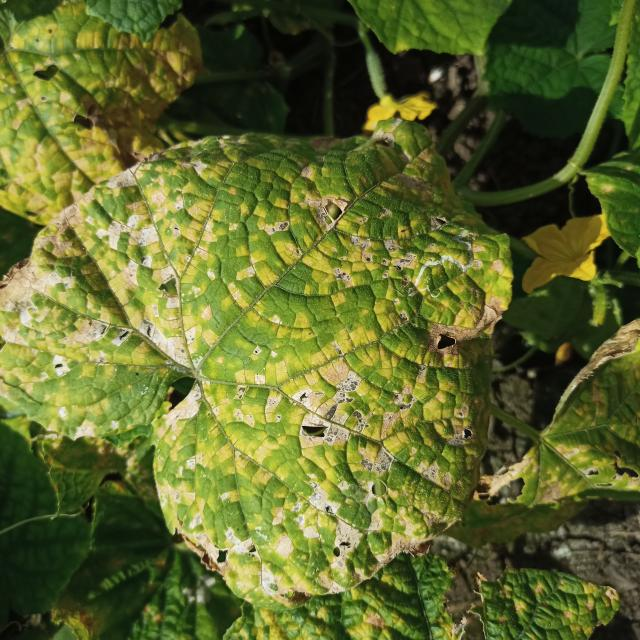disease_cucumber: (0, 130, 516, 594), (0, 0, 199, 222)
